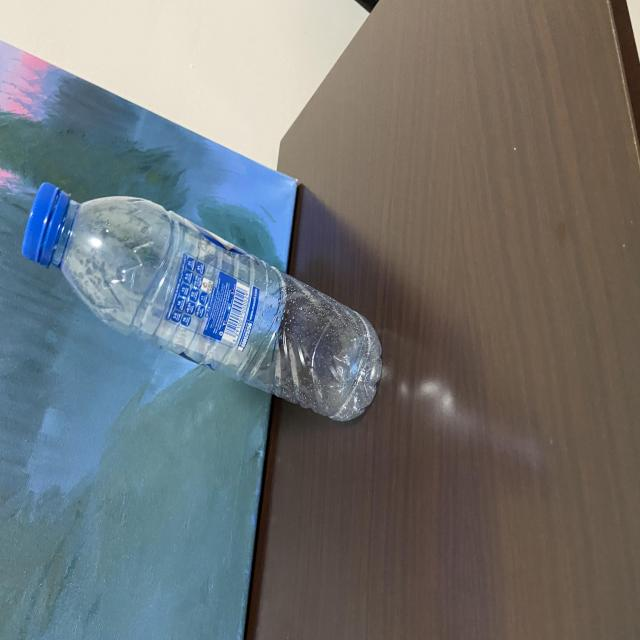bottle: (0, 171, 383, 454)
